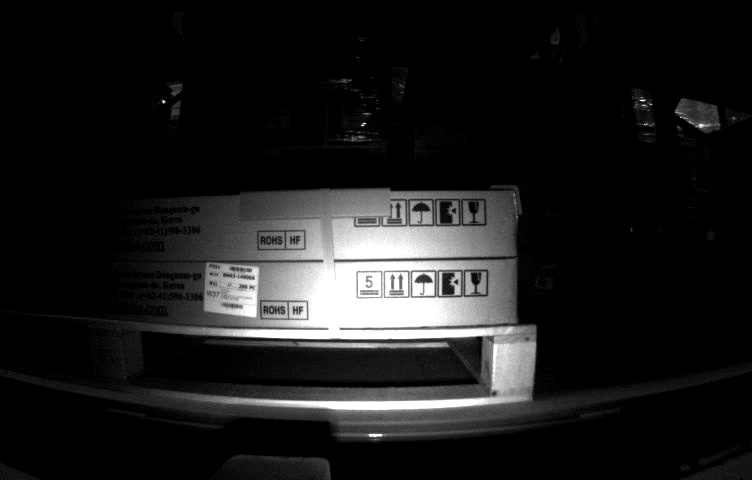True Barcode: (204, 258, 260, 319)
